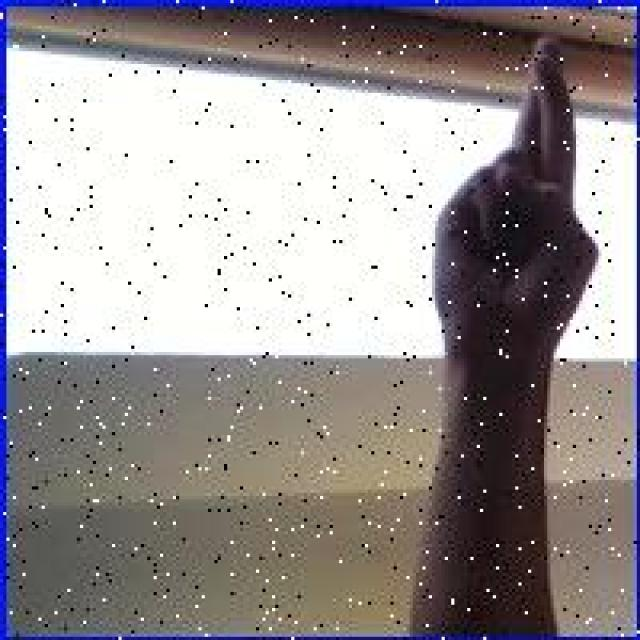R: (424, 32, 603, 365)
